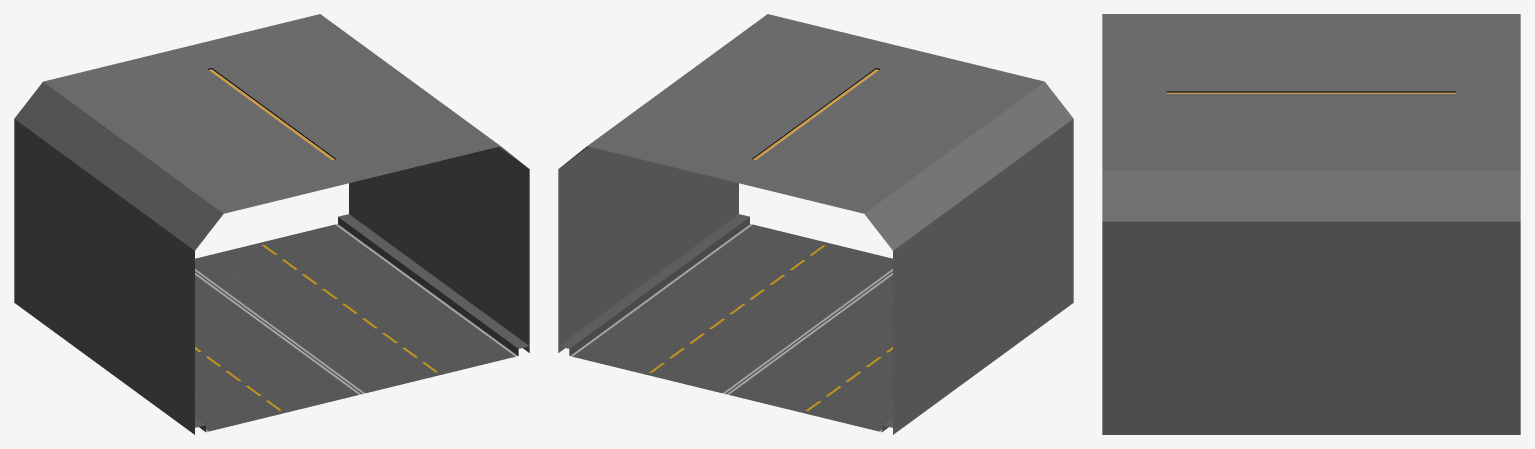
Rendered from SM_Floor_Road_28.fbx.
The picture shows the model from 3 angles, left to right: view 1: azimuth 30°, elevation 25°; view 2: azimuth 150°, elevation 25°; view 3: azimuth 270°, elevation 25°; orthographic projection. The views are drawn at different scales.
Visible parts, largest first — view 1: SM_Floor_Road_28; view 2: SM_Floor_Road_28; view 3: SM_Floor_Road_28.
Part boxes in pixels (x1=…): SM_Floor_Road_28: x1=14, y1=14, x2=529, y2=434; SM_Floor_Road_28: x1=558, y1=14, x2=1073, y2=434; SM_Floor_Road_28: x1=1102, y1=14, x2=1520, y2=434.
Bounding box in the file's own units: 10.7 × 6.54 × 10.
